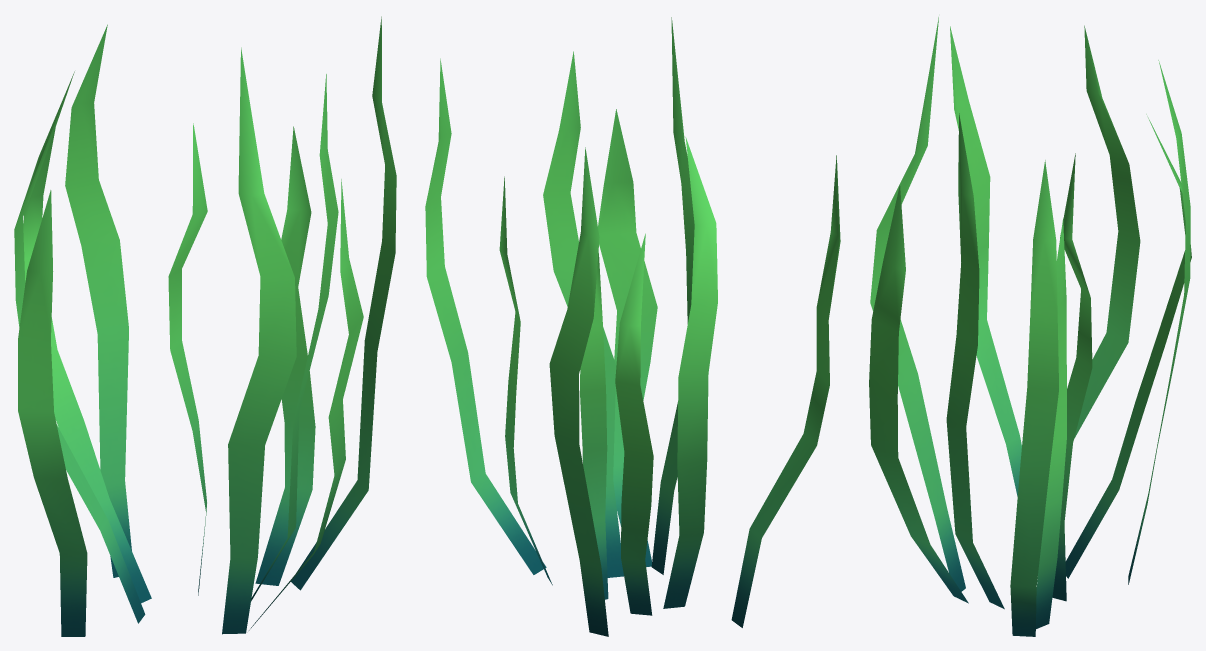
The model's file is kusa.fbx.
The picture shows the model from 3 angles, left to right: view 1: azimuth 30°, elevation 25°; view 2: azimuth 150°, elevation 25°; view 3: azimuth 270°, elevation 25°; orthographic projection. The views are drawn at different scales.
Parts seen in each view (by area): view 1: kusa; view 2: kusa; view 3: kusa.
Boxes of the visible parts, left/top/right/bottom form: kusa: left=14, top=16, right=396, bottom=636; kusa: left=425, top=17, right=840, bottom=636; kusa: left=869, top=17, right=1191, bottom=636.
Size of the model in its own units: 19.38 by 27.36 by 13.88.
